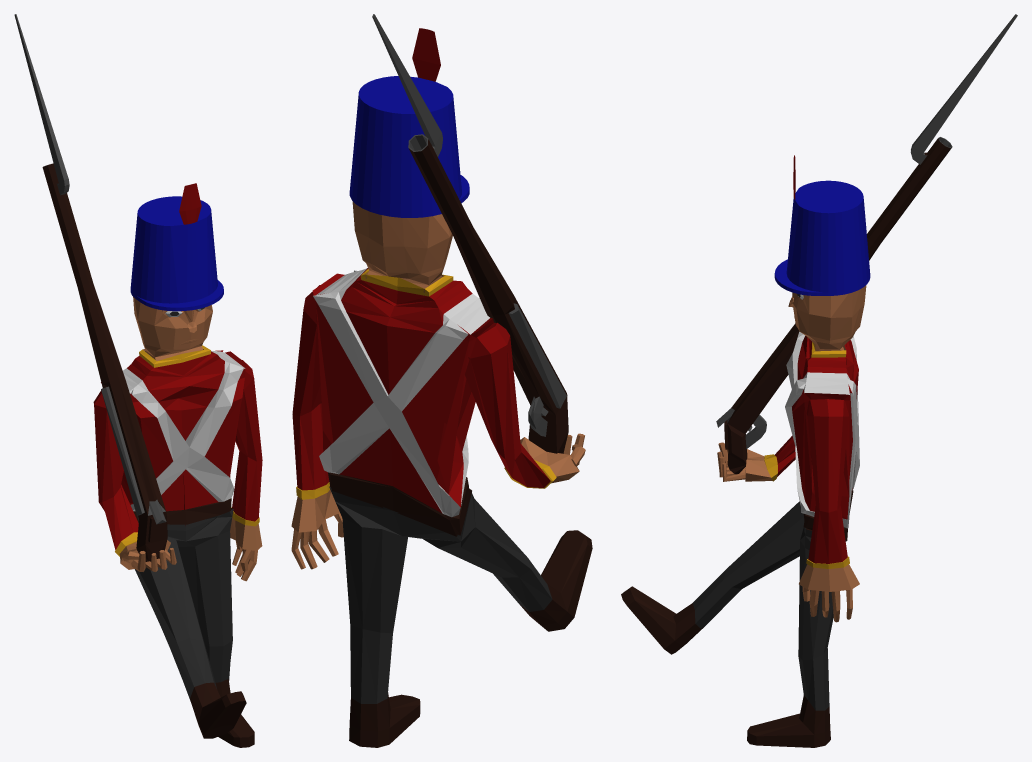
Rendered from Infantry_000178.obj.
3 renders of one model, left to right at view 1: azimuth 30°, elevation 25°; view 2: azimuth 150°, elevation 25°; view 3: azimuth 270°, elevation 25°, orthographic. The views are drawn at different scales.
Visible parts, largest first — view 1: {Man}_Circle, {Mesket}_Cube.001; view 2: {Man}_Circle, {Mesket}_Cube.001; view 3: {Man}_Circle, {Mesket}_Cube.001.
Boxes of the visible parts, box(x1,y1,x2,y2) form: {Man}_Circle: box(93, 183, 262, 747); {Mesket}_Cube.001: box(14, 14, 167, 561); {Man}_Circle: box(291, 28, 592, 747); {Mesket}_Cube.001: box(372, 14, 568, 453); {Man}_Circle: box(621, 155, 870, 747); {Mesket}_Cube.001: box(716, 14, 1017, 474).
Size of the model in its own units: 5.63 by 19.62 by 10.43.
